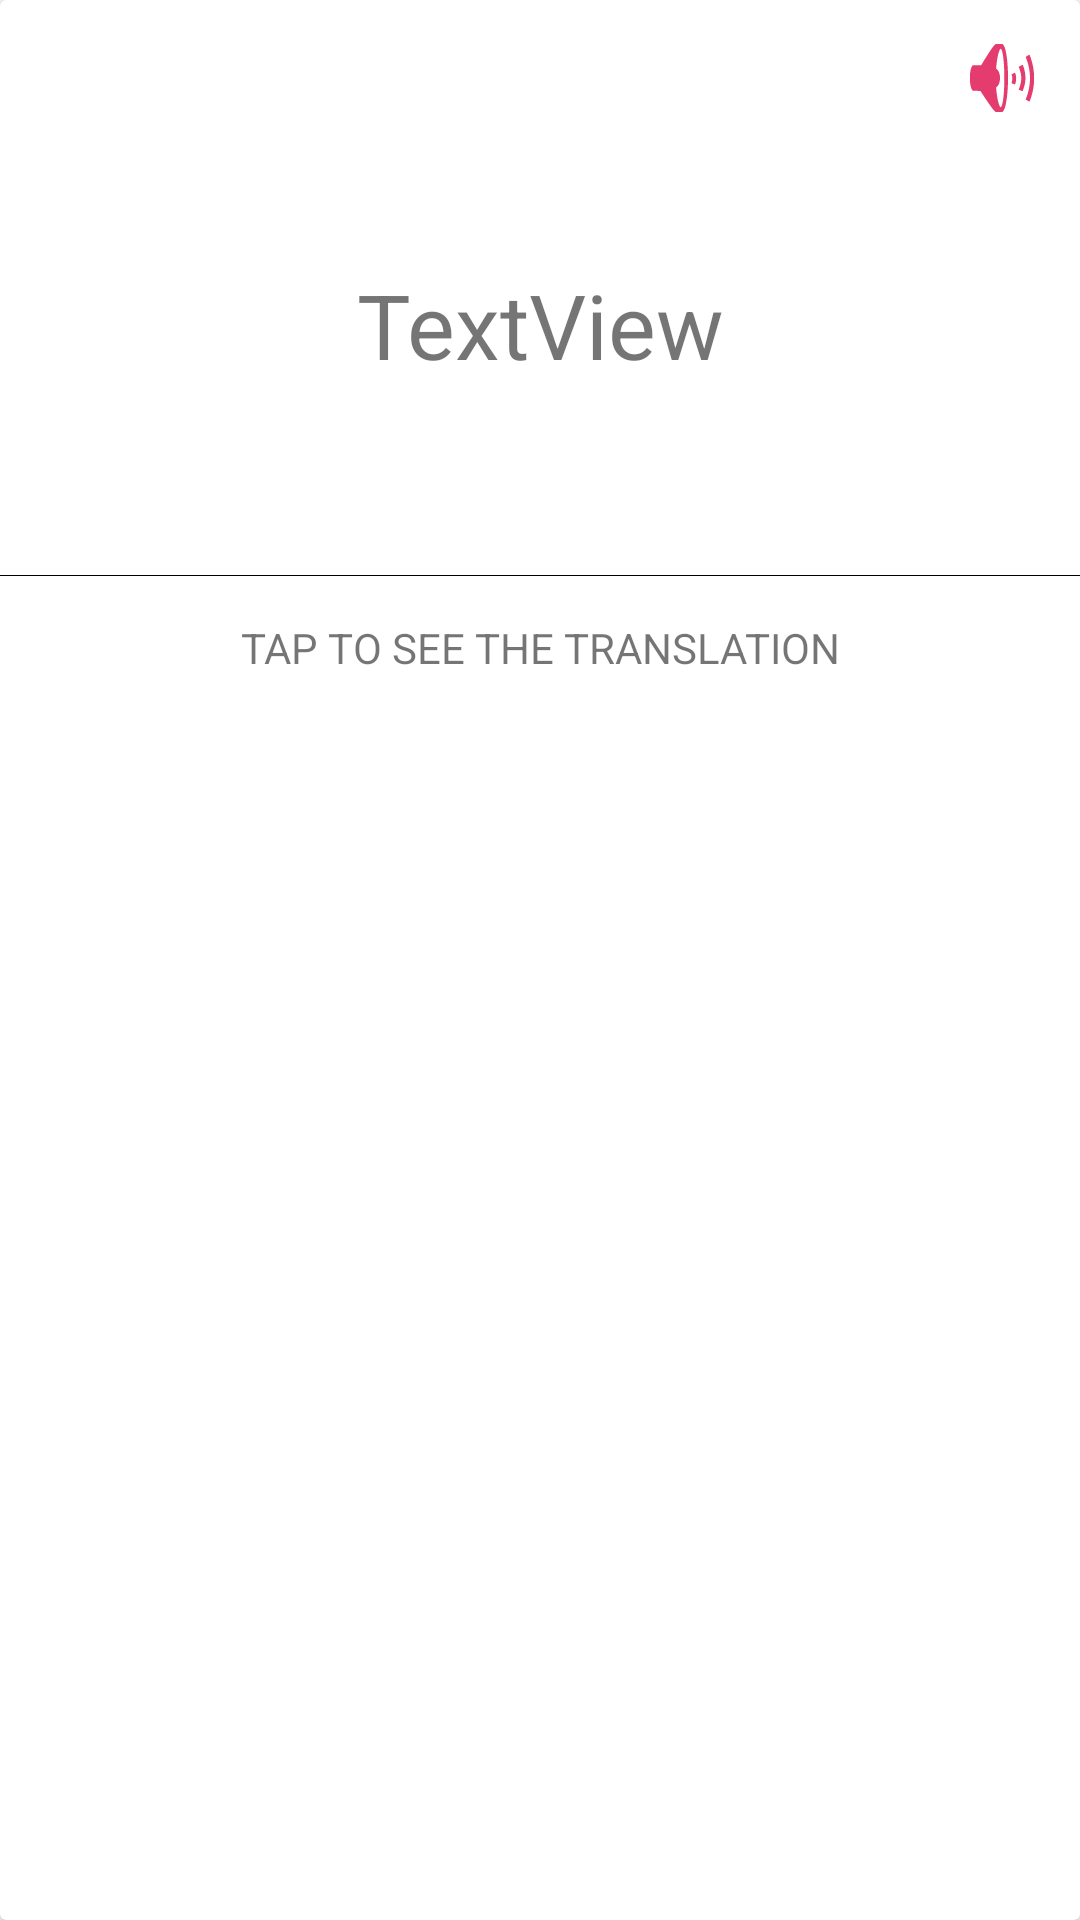

Screen size 1080 x 1920. Icon name, then its box in pixels as {"x1": x1, "y1": y1, "x2": x2, "y2": y2}:
lock silent mode off: {"x1": 970, "y1": 44, "x2": 1034, "y2": 112}
